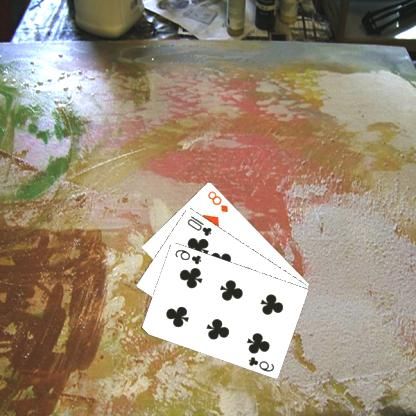10C: (186, 212, 215, 237)
6C: (246, 353, 278, 373), (174, 246, 205, 266)
8D: (206, 187, 232, 214)
